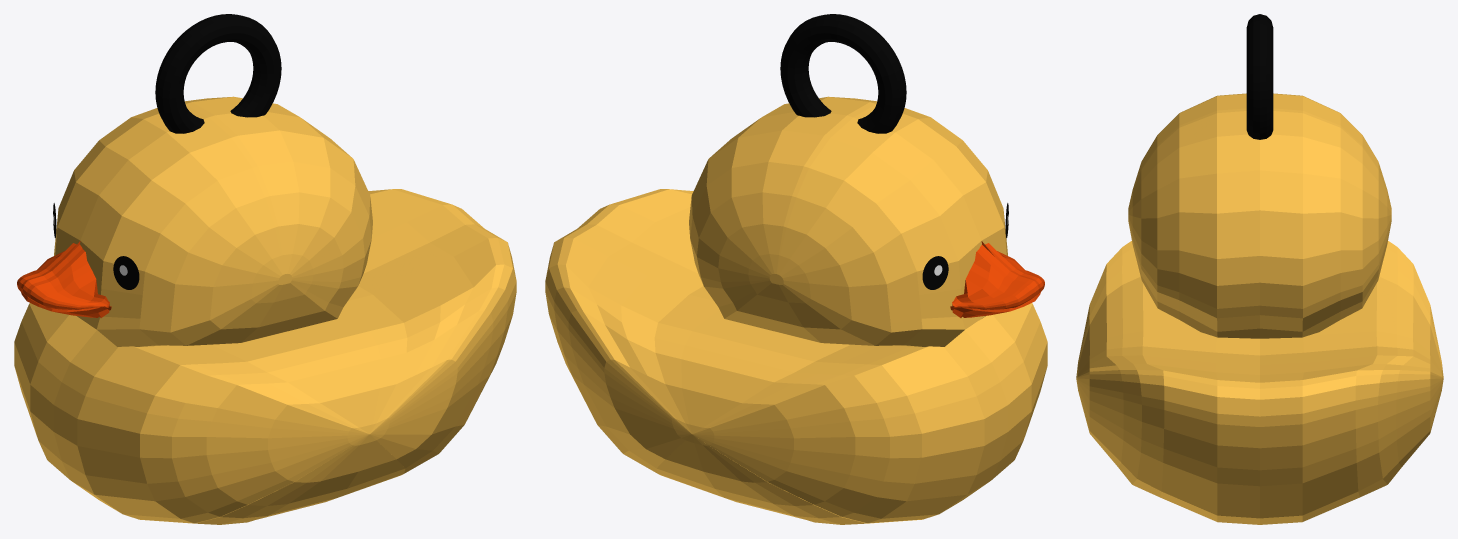
Rendered from BadEend.fbx.
3 renders of one model, left to right at view 1: azimuth 30°, elevation 25°; view 2: azimuth 150°, elevation 25°; view 3: azimuth 270°, elevation 25°, orthographic. The views are drawn at different scales.
Parts seen in each view (by area): view 1: RubberDuck, Torus; view 2: RubberDuck, Torus; view 3: RubberDuck, Torus.
Boxes of the visible parts, left/top/right/bottom form: RubberDuck: left=14, top=96, right=516, bottom=524; Torus: left=155, top=14, right=281, bottom=133; RubberDuck: left=545, top=96, right=1047, bottom=524; Torus: left=780, top=14, right=906, bottom=133; RubberDuck: left=1076, top=93, right=1443, bottom=524; Torus: left=1246, top=14, right=1273, bottom=139.
Bounding box in the file's own units: 441 × 431 × 323.
